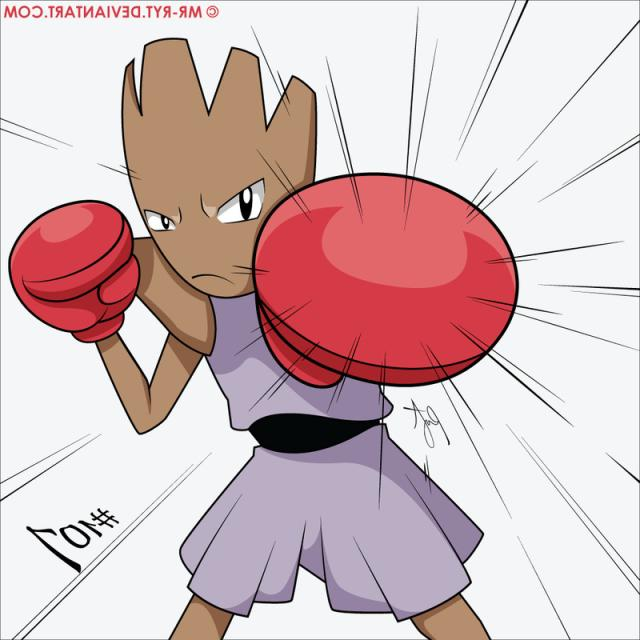Hitmonchan: (74, 53, 477, 640)
